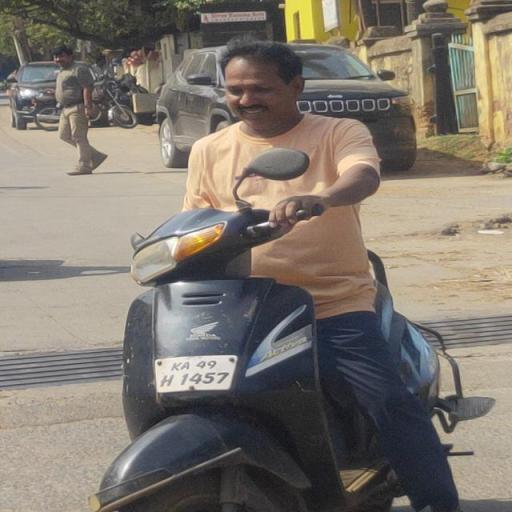bike: (78, 33, 499, 512)
numberplate: (150, 350, 238, 394)
withouthelmet: (223, 42, 302, 122)
